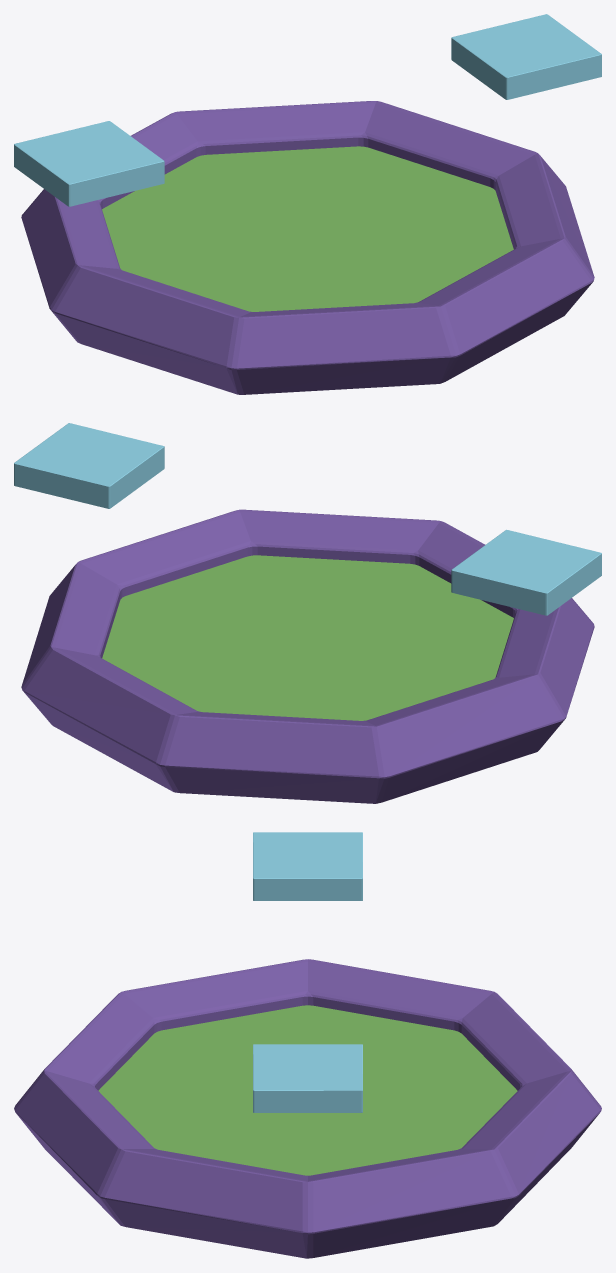
File: item_kit_skytramp.glb
3 renders of one model, top to bottom at view 1: azimuth 30°, elevation 25°; view 2: azimuth 150°, elevation 25°; view 3: azimuth 270°, elevation 25°, orthographic.
Visible parts, largest first — view 1: item_kit_skytramp_part_0, item_kit_skytramp_part_1, item_kit_skytramp_part_2, item_kit_skytramp_part_3; view 2: item_kit_skytramp_part_0, item_kit_skytramp_part_1, item_kit_skytramp_part_3, item_kit_skytramp_part_2; view 3: item_kit_skytramp_part_0, item_kit_skytramp_part_1, item_kit_skytramp_part_2, item_kit_skytramp_part_3.
Boxes of the visible parts, x1,y1,x2,y2 form: item_kit_skytramp_part_0: [21, 101, 594, 394]; item_kit_skytramp_part_1: [102, 146, 513, 311]; item_kit_skytramp_part_2: [14, 121, 164, 206]; item_kit_skytramp_part_3: [451, 14, 601, 99]; item_kit_skytramp_part_0: [21, 509, 594, 803]; item_kit_skytramp_part_1: [102, 555, 513, 720]; item_kit_skytramp_part_3: [14, 423, 164, 508]; item_kit_skytramp_part_2: [451, 529, 601, 615]; item_kit_skytramp_part_0: [14, 959, 601, 1258]; item_kit_skytramp_part_1: [98, 1005, 517, 1175]; item_kit_skytramp_part_2: [253, 832, 362, 900]; item_kit_skytramp_part_3: [253, 1044, 362, 1112].
Bounding box in the file's own units: 1.22 × 0.409 × 1.17.
